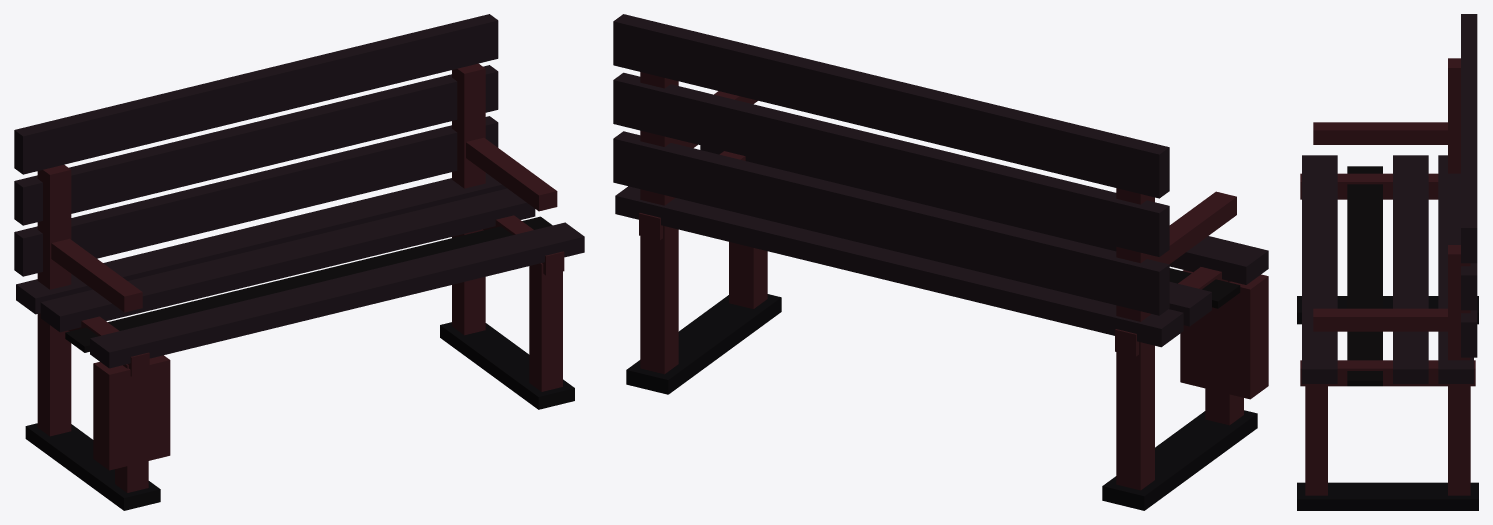
Rendered from SM_Bench_Aged.obj.
3 renders of one model, left to right at view 1: azimuth 30°, elevation 25°; view 2: azimuth 150°, elevation 25°; view 3: azimuth 270°, elevation 25°, orthographic. The views are drawn at different scales.
Visible parts, largest first — view 1: back_slat_2, back_slat_1, back_slat_0, seat_slat_3, seat_slat_1, seat_slat_0, rust_bloom, leg_back_0, missing_slat_scar, leg_back_1, foot_1, leg_front_1 (+6 smaller); view 2: back_slat_2, back_slat_1, back_slat_0, seat_slat_0, rust_bloom, leg_back_0, leg_back_1, foot_1, foot_0, seat_slat_3, arm_l, leg_front_1 (+4 smaller); view 3: seat_slat_3, seat_slat_1, missing_slat_scar, foot_1, back_slat_2, leg_back_1, seat_slat_0, arm_r, arm_l, leg_front_1, seat_rail_1, leg_back_0 (+4 smaller).
Boxes of the visible parts, x1=… form: back_slat_2: x1=14, y1=14, x2=498, y2=174; back_slat_1: x1=14, y1=65, x2=498, y2=225; back_slat_0: x1=14, y1=116, x2=498, y2=276; seat_slat_3: x1=90, y1=222, x2=584, y2=368; seat_slat_1: x1=40, y1=188, x2=535, y2=332; seat_slat_0: x1=16, y1=173, x2=506, y2=314; rust_bloom: x1=93, y1=355, x2=170, y2=470; leg_back_0: x1=37, y1=165, x2=71, y2=436; missing_slat_scar: x1=65, y1=216, x2=552, y2=352; leg_back_1: x1=452, y1=63, x2=485, y2=335; foot_1: x1=440, y1=322, x2=574, y2=409; leg_front_1: x1=529, y1=263, x2=562, y2=391; back_slat_2: x1=613, y1=14, x2=1169, y2=198; back_slat_1: x1=613, y1=72, x2=1169, y2=256; back_slat_0: x1=613, y1=131, x2=1169, y2=315; seat_slat_0: x1=615, y1=186, x2=1183, y2=347; rust_bloom: x1=1180, y1=270, x2=1268, y2=399; leg_back_0: x1=1116, y1=188, x2=1154, y2=490; leg_back_1: x1=640, y1=72, x2=678, y2=374; foot_1: x1=626, y1=294, x2=781, y2=394; foot_0: x1=1102, y1=410, x2=1257, y2=510; seat_slat_3: x1=700, y1=145, x2=1268, y2=284; arm_l: x1=1155, y1=191, x2=1236, y2=264; leg_front_1: x1=729, y1=242, x2=767, y2=308; seat_slat_3: x1=1302, y1=155, x2=1337, y2=383; seat_slat_1: x1=1393, y1=155, x2=1428, y2=383; missing_slat_scar: x1=1347, y1=166, x2=1382, y2=386; foot_1: x1=1297, y1=482, x2=1478, y2=510; back_slat_2: x1=1461, y1=14, x2=1477, y2=263; leg_back_1: x1=1448, y1=245, x2=1470, y2=495; seat_slat_0: x1=1438, y1=155, x2=1473, y2=383; arm_r: x1=1313, y1=308, x2=1447, y2=331; arm_l: x1=1313, y1=122, x2=1447, y2=144; leg_front_1: x1=1305, y1=384, x2=1327, y2=495; seat_rail_1: x1=1300, y1=360, x2=1475, y2=386; leg_back_0: x1=1448, y1=58, x2=1460, y2=173.
Bounding box in the file's own units: 1.56 × 0.98 × 0.56.
